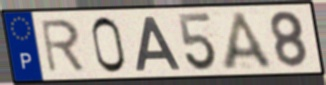0: (90, 15, 129, 75)
5: (175, 11, 219, 73)
8: (268, 9, 309, 70)
A: (221, 9, 278, 72), (134, 14, 183, 73)
R: (38, 17, 88, 75)
